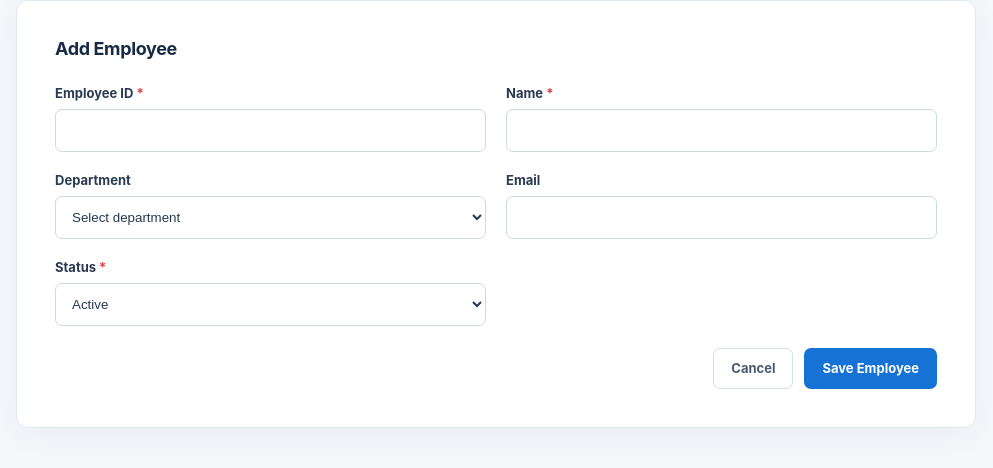
it: EmployeeForm › reports a malformed email address
Type "E-3" into the field labelled "Employee ID *".
click(270, 130); type("E-3")  # box [55,109,486,152]
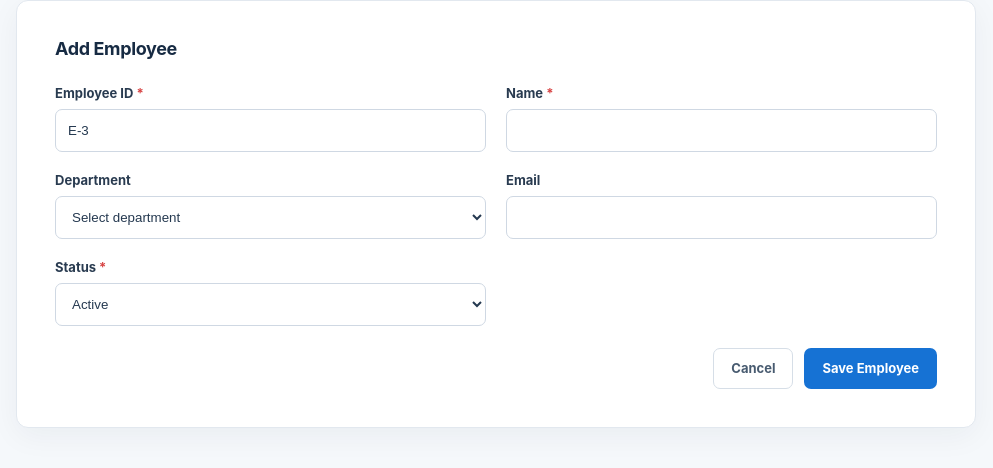
Type "Taylor" into the field labelled "Name *".
click(722, 130); type("Taylor")  # box [506,109,937,152]
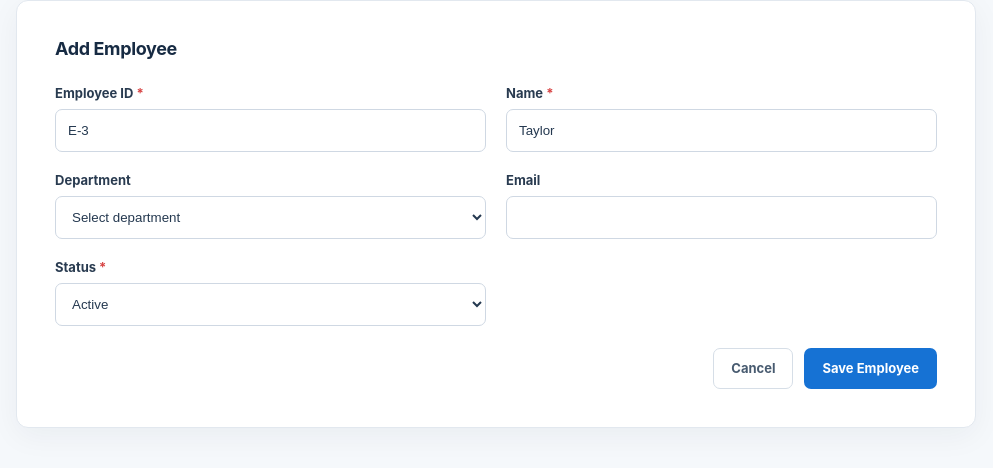
Type "not-an-email" into the field labelled "Email".
click(722, 217); type("not-an-email")  # box [506,196,937,239]
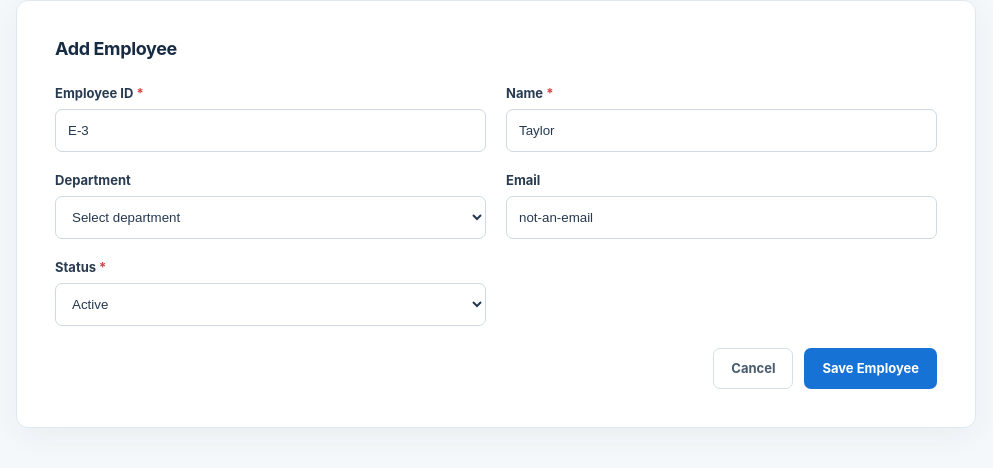
Click the button "Save Employee".
click(871, 368)  # box [804,348,937,389]
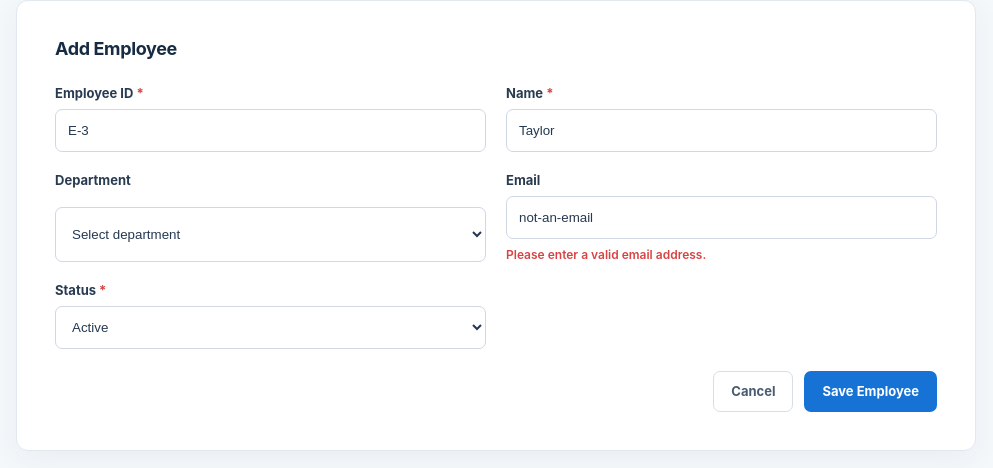
Check: the text "Please enter a valid email address." is shown, box [506,247,706,262]
